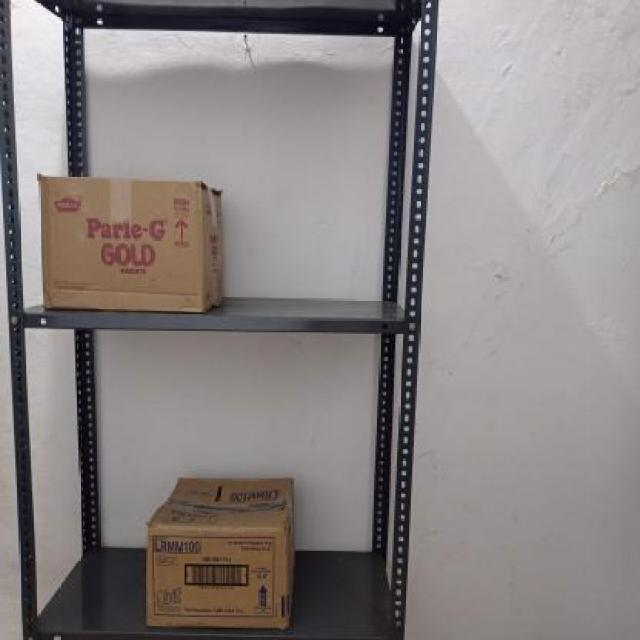box: (36, 175, 204, 314), (144, 524, 288, 638)
